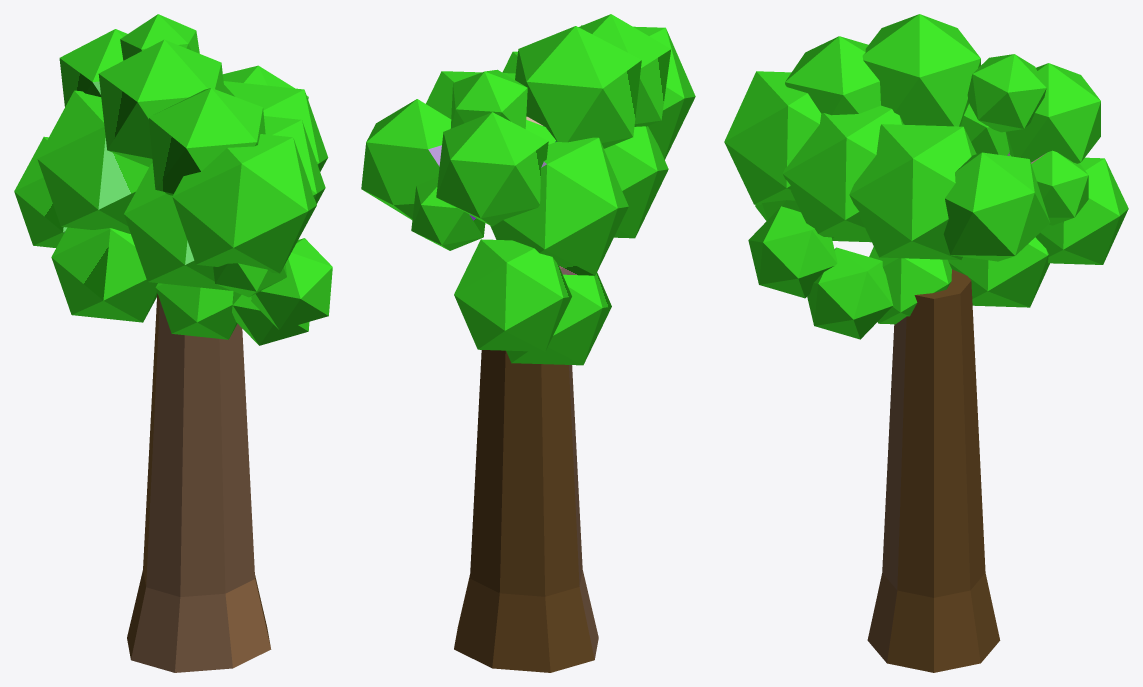
File: tree22.fbx
3 renders of one model, left to right at view 1: azimuth 30°, elevation 25°; view 2: azimuth 150°, elevation 25°; view 3: azimuth 270°, elevation 25°, orthographic. The views are drawn at different scales.
Visible parts, largest first — view 1: Icosphere.009; view 2: Icosphere.009; view 3: Icosphere.009.
Part boxes in pixels (bbox=[...]): Icosphere.009: bbox=[14, 14, 332, 672]; Icosphere.009: bbox=[361, 14, 695, 672]; Icosphere.009: bbox=[724, 14, 1128, 672].
Size of the model in its own units: 446 by 1031 by 623.
3 materials, 3 textured.
